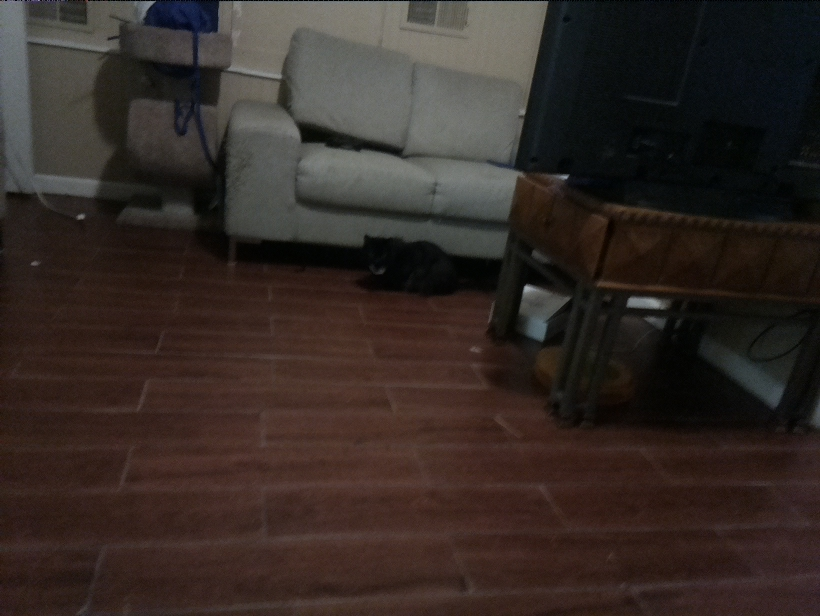cat: (324, 224, 489, 302)
